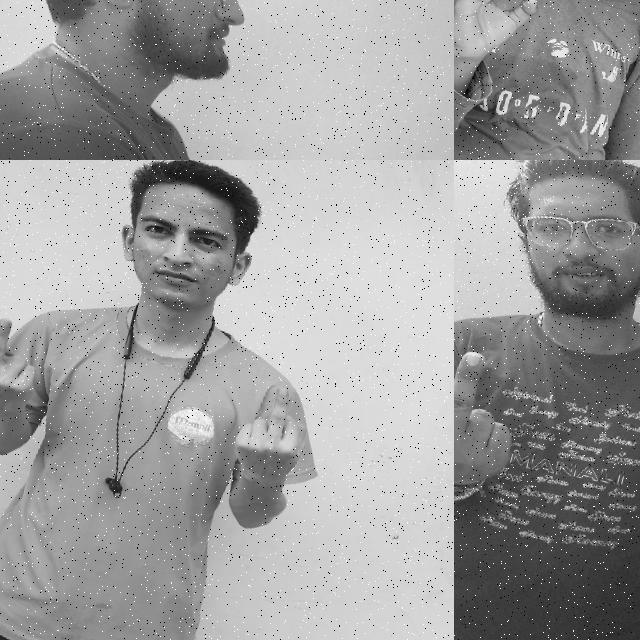Middle Finger: (454, 324, 546, 525), (223, 364, 324, 494), (0, 301, 56, 428)
Okay: (454, 0, 562, 85)
